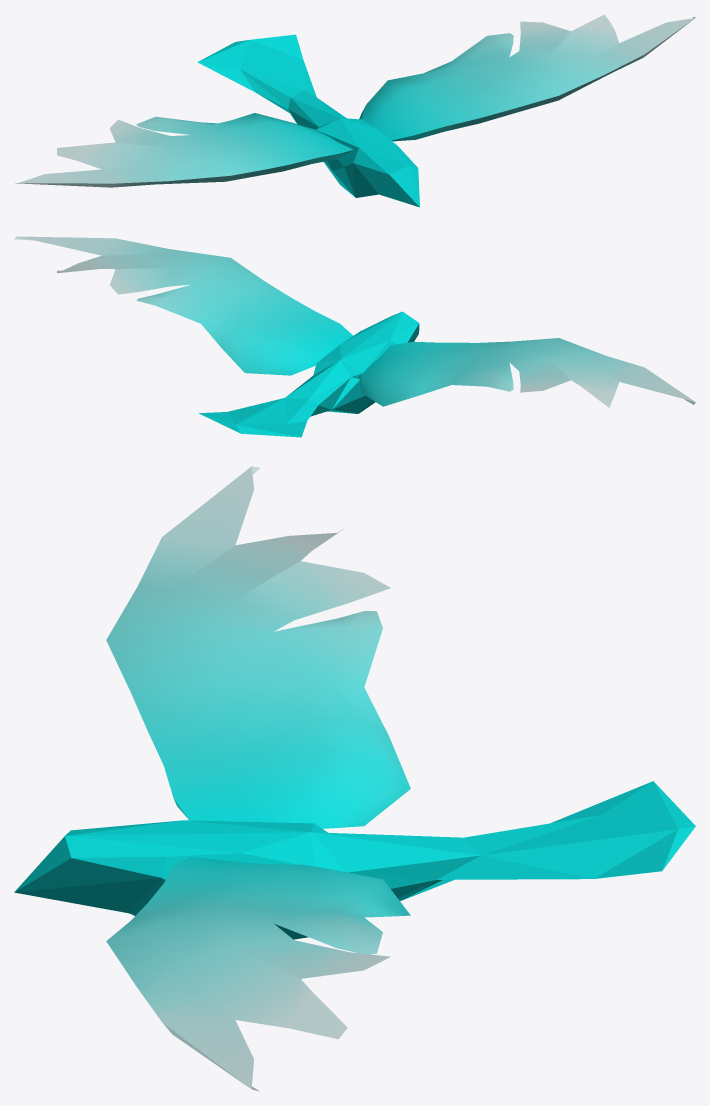
File: VFX_BirdVertexColor.fbx
The picture shows the model from 3 angles, top to bottom: view 1: azimuth 30°, elevation 25°; view 2: azimuth 150°, elevation 25°; view 3: azimuth 270°, elevation 25°; orthographic projection. The views are drawn at different scales.
Visible parts, largest first — view 1: VFX_BirdVertexColor; view 2: VFX_BirdVertexColor; view 3: VFX_BirdVertexColor.
Part boxes in pixels (bbox=[...]): VFX_BirdVertexColor: bbox=[15, 14, 695, 207]; VFX_BirdVertexColor: bbox=[14, 236, 695, 437]; VFX_BirdVertexColor: bbox=[14, 466, 695, 1091].
Bounding box in the file's own units: 15.08 × 1.94 × 6.97.
